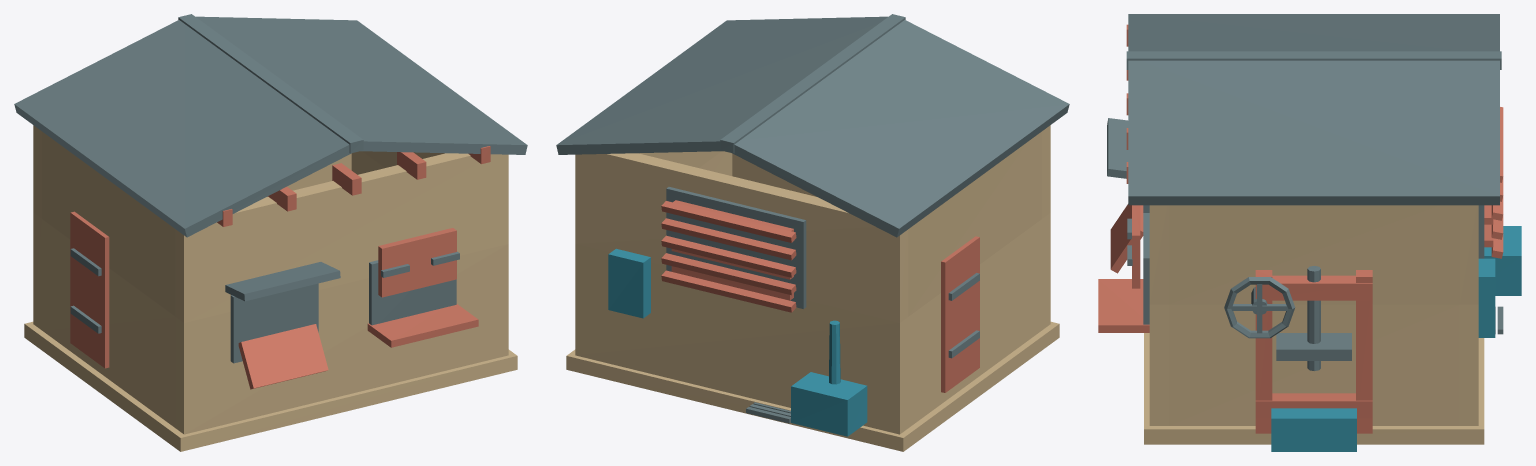
Rendered from cheese-house.source.glb.
3 renders of one model, left to right at view 1: azimuth 30°, elevation 25°; view 2: azimuth 150°, elevation 25°; view 3: azimuth 270°, elevation 25°, orthographic. The views are drawn at different scales.
Parts seen in each view (by area): view 1: cheese-house-left-roof-panel-mesh, cheese-house-front-upper-plaster-wall-mesh, cheese-house-front-lower-stone-wall-mesh, cheese-house-right-roof-panel-mesh, cheese-house-left-lower-stone-wall-mesh, cheese-house-left-upper-plaster-wall-mesh, cheese-house-foundation-slab-mesh, cheese-house-timber-service-door-mesh, cheese-house-receiving-timber-shutter-mesh, cheese-house-receiving-dark-recess-mesh, cheese-house-product-output-timber-shutter-mesh, cheese-house-roof-ridge-cap-mesh (+9 smaller); view 2: cheese-house-left-roof-panel-mesh, cheese-house-rear-lower-stone-wall-mesh, cheese-house-rear-upper-plaster-wall-mesh, cheese-house-right-roof-panel-mesh, cheese-house-left-lower-stone-wall-mesh, cheese-house-left-upper-plaster-wall-mesh, cheese-house-foundation-slab-mesh, cheese-house-aging-room-dark-opening-mesh, cheese-house-timber-service-door-mesh, cheese-house-brine-wash-basin-mesh, cheese-house-roof-ridge-cap-mesh, cheese-house-power-service-box-mesh (+11 smaller); view 3: cheese-house-right-roof-panel-mesh, cheese-house-right-lower-stone-wall-mesh, cheese-house-right-upper-plaster-wall-mesh, cheese-house-left-roof-panel-mesh, cheese-house-foundation-slab-mesh, cheese-house-roof-ridge-cap-mesh, cheese-house-empty-curd-work-vat-mesh, cheese-house-product-output-tray-mesh, cheese-house-front-lower-stone-wall-mesh, cheese-house-rear-lower-stone-wall-mesh, cheese-house-press-crossbeam-1.72-mesh, cheese-house-press-post--0.48-mesh (+13 smaller).
Part boxes in pixels (<box>): cheese-house-left-roof-panel-mesh: <box>14,20,351,237</box>; cheese-house-front-upper-plaster-wall-mesh: <box>175,153,508,322</box>; cheese-house-front-lower-stone-wall-mesh: <box>175,244,508,434</box>; cheese-house-right-roof-panel-mesh: <box>196,16,527,154</box>; cheese-house-left-lower-stone-wall-mesh: <box>42,219,175,427</box>; cheese-house-left-upper-plaster-wall-mesh: <box>42,131,175,316</box>; cheese-house-foundation-slab-mesh: <box>24,321,517,451</box>; cheese-house-timber-service-door-mesh: <box>70,211,109,368</box>; cheese-house-receiving-timber-shutter-mesh: <box>238,324,328,389</box>; cheese-house-receiving-dark-recess-mesh: <box>230,283,318,363</box>; cheese-house-product-output-timber-shutter-mesh: <box>378,228,456,297</box>; cheese-house-roof-ridge-cap-mesh: <box>178,14,363,153</box>; cheese-house-left-roof-panel-mesh: <box>732,20,1069,237</box>; cheese-house-rear-lower-stone-wall-mesh: <box>575,244,908,434</box>; cheese-house-rear-upper-plaster-wall-mesh: <box>575,153,908,322</box>; cheese-house-right-roof-panel-mesh: <box>556,16,887,154</box>; cheese-house-left-lower-stone-wall-mesh: <box>908,219,1041,427</box>; cheese-house-left-upper-plaster-wall-mesh: <box>908,131,1041,316</box>; cheese-house-foundation-slab-mesh: <box>566,321,1059,451</box>; cheese-house-aging-room-dark-opening-mesh: <box>666,187,806,308</box>; cheese-house-timber-service-door-mesh: <box>941,236,979,392</box>; cheese-house-brine-wash-basin-mesh: <box>791,372,867,436</box>; cheese-house-roof-ridge-cap-mesh: <box>720,14,905,153</box>; cheese-house-power-service-box-mesh: <box>608,248,650,318</box>; cheese-house-right-roof-panel-mesh: <box>1128,60,1499,205</box>; cheese-house-right-lower-stone-wall-mesh: <box>1168,304,1459,425</box>; cheese-house-right-upper-plaster-wall-mesh: <box>1168,205,1459,304</box>; cheese-house-left-roof-panel-mesh: <box>1128,14,1499,51</box>; cheese-house-foundation-slab-mesh: <box>1144,333,1484,444</box>; cheese-house-roof-ridge-cap-mesh: <box>1126,51,1501,69</box>; cheese-house-empty-curd-work-vat-mesh: <box>1271,408,1356,451</box>; cheese-house-product-output-tray-mesh: <box>1098,279,1149,332</box>; cheese-house-front-lower-stone-wall-mesh: <box>1149,304,1168,425</box>; cheese-house-rear-lower-stone-wall-mesh: <box>1459,304,1478,425</box>; cheese-house-press-crossbeam-1.72-mesh: <box>1255,275,1372,300</box>; cheese-house-press-post--0.48-mesh: <box>1356,270,1372,433</box>.
Size of the model in its own units: 4.57 by 3.16 by 4.04.
